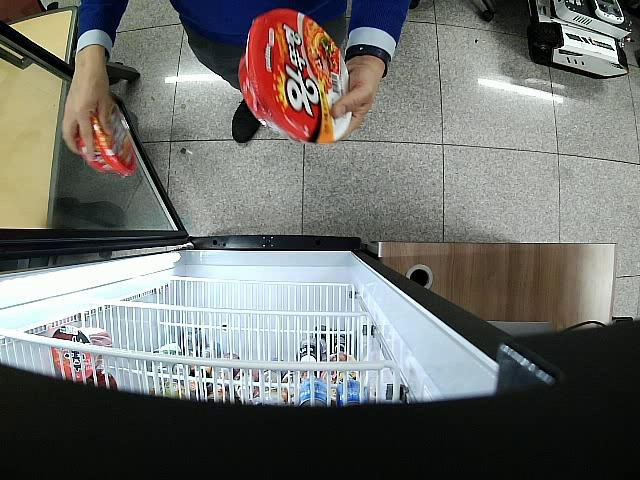00_hand: (62, 60, 115, 162), (330, 56, 385, 139)
10_wangTtukkeong: (239, 10, 352, 144), (77, 97, 138, 178)
